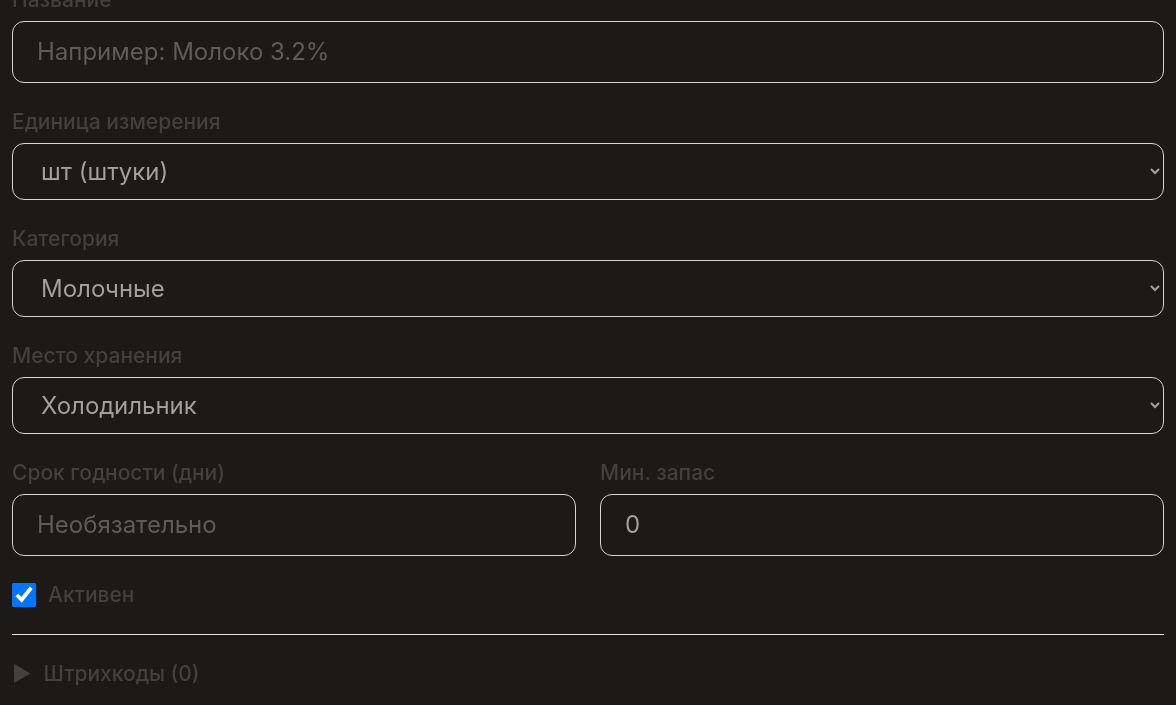
Scenario: ProductForm › toasts the owning product on a barcode conflict
Type "Молоко" into the field labelled "Название" at (588, 52), box [12,21,1164,83]
(page scrolled)
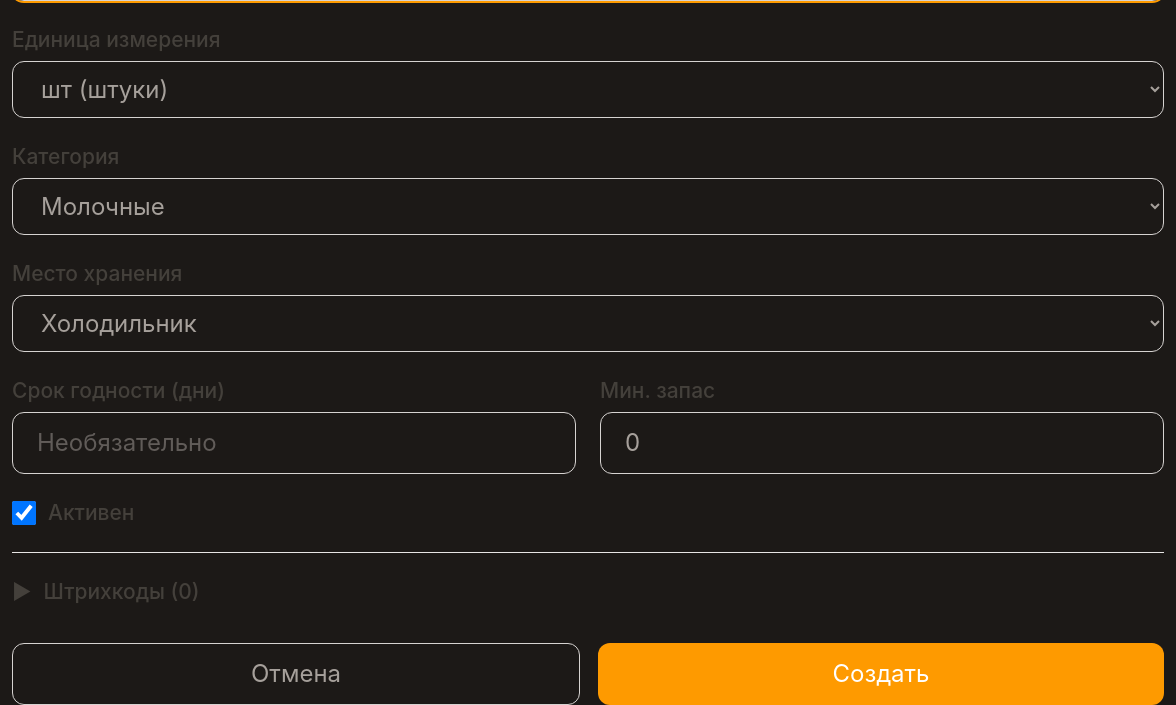
Click the button "Создать" at (881, 674), box [598,643,1164,704]
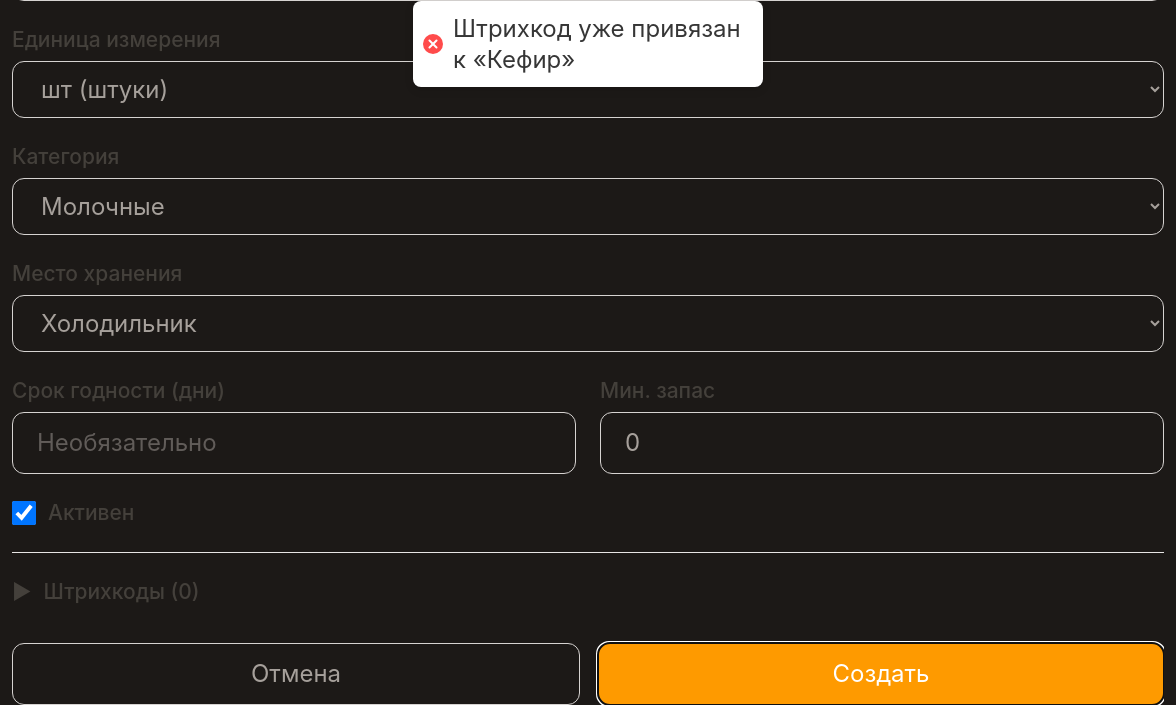
Result: the text "Штрихкод уже привязан к «Кефир»" is shown at [453,13,743,75]
